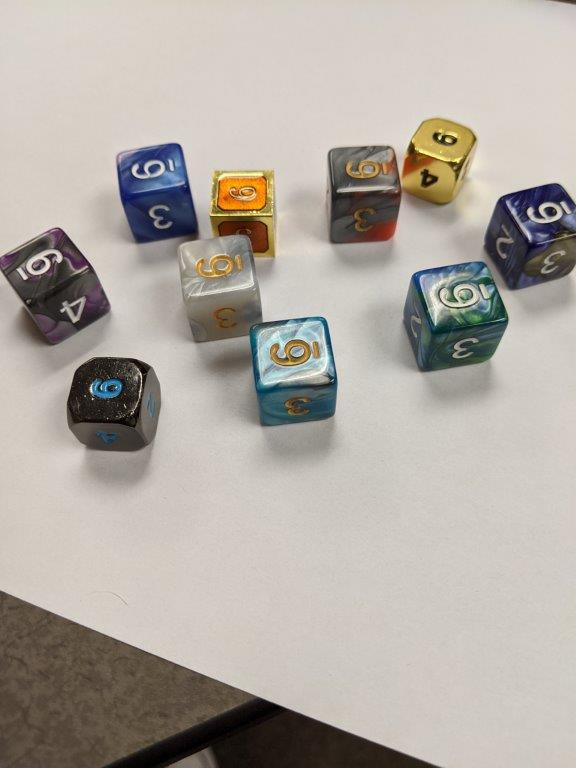d6-6: (1, 230, 110, 346), (406, 259, 506, 374), (174, 232, 265, 343), (249, 318, 337, 427), (486, 186, 576, 288), (70, 358, 161, 452), (114, 141, 198, 240), (397, 117, 478, 208), (326, 146, 398, 243), (206, 167, 276, 261)
